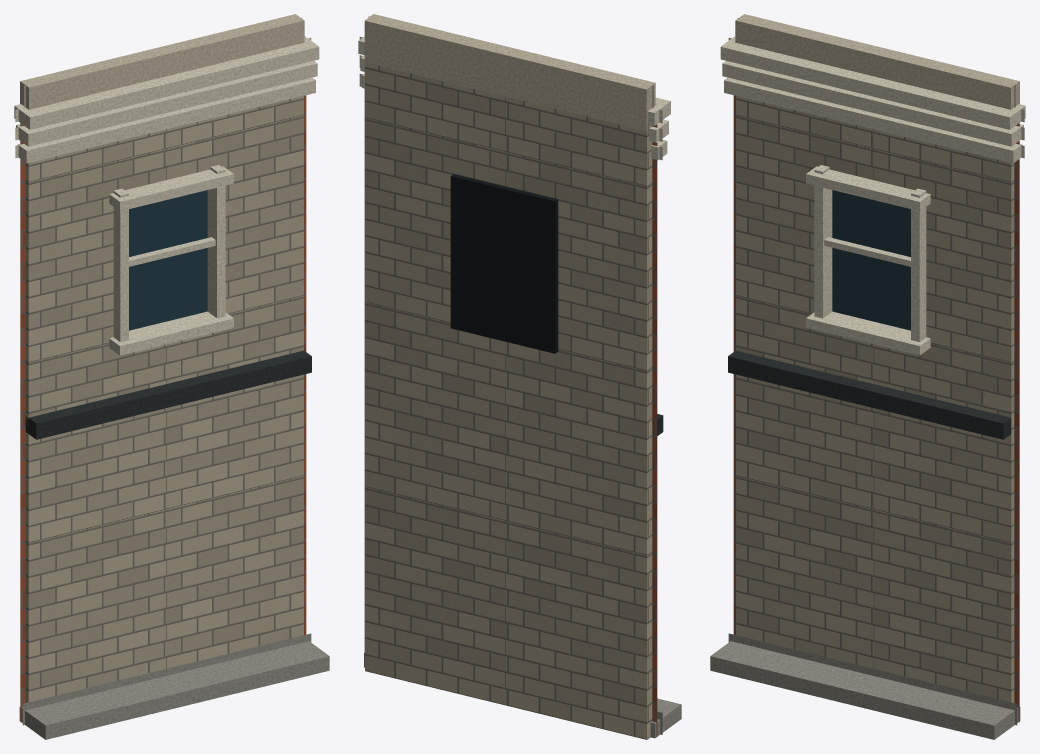
Rendered from WHSE19_lod2.glb.
3 views of the same model, side by side, from view 1: azimuth 30°, elevation 25°; view 2: azimuth 150°, elevation 25°; view 3: azimuth 330°, elevation 25° (orthographic). The views are drawn at different scales.
Parts seen in each view (by area): view 1: WHSE19_FRONT_LOD2; view 2: WHSE19_FRONT_LOD2; view 3: WHSE19_FRONT_LOD2.
Boxes of the visible parts, x1,y1,x2,y2 form: WHSE19_FRONT_LOD2: (14,14,329,739); WHSE19_FRONT_LOD2: (358,14,681,739); WHSE19_FRONT_LOD2: (710,14,1025,739).
Size of the model in its own units: 3.44 by 7.05 by 0.65.
Materials: 9 (7 with a texture image).
